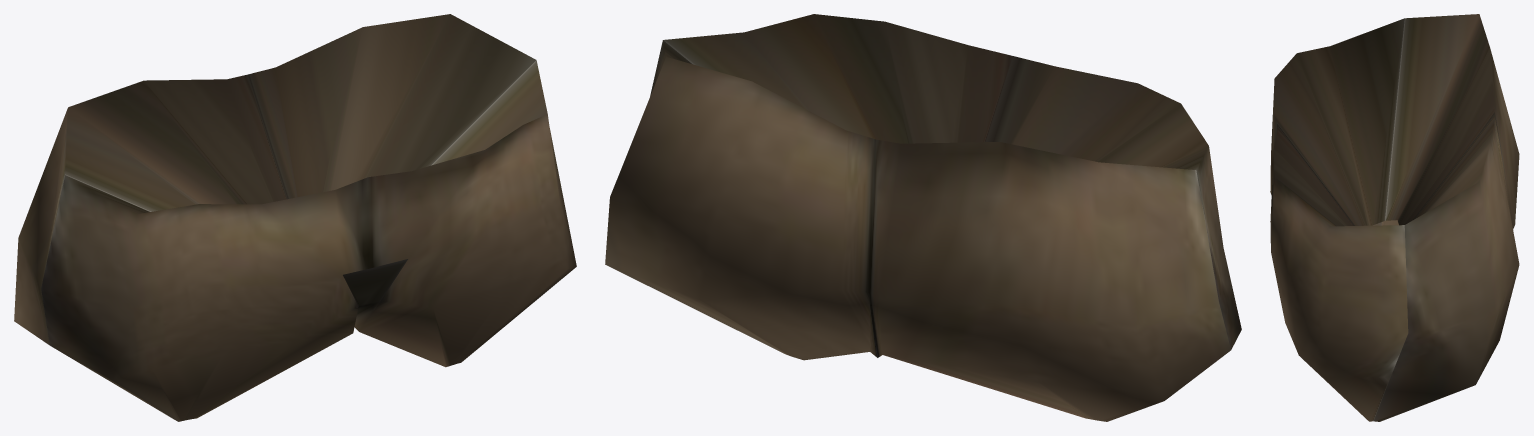
The model's file is pants.fbx.
3 views of the same model, side by side, from view 1: azimuth 30°, elevation 25°; view 2: azimuth 150°, elevation 25°; view 3: azimuth 270°, elevation 25° (orthographic). The views are drawn at different scales.
Visible parts, largest first — view 1: Mesh_002; view 2: Mesh_002; view 3: Mesh_002.
Boxes of the visible parts, bbox=[...] form: Mesh_002: bbox=[14, 14, 576, 421]; Mesh_002: bbox=[605, 14, 1241, 421]; Mesh_002: bbox=[1270, 14, 1519, 421].
Size of the model in its own units: 8.07 by 4.4 by 3.75.
